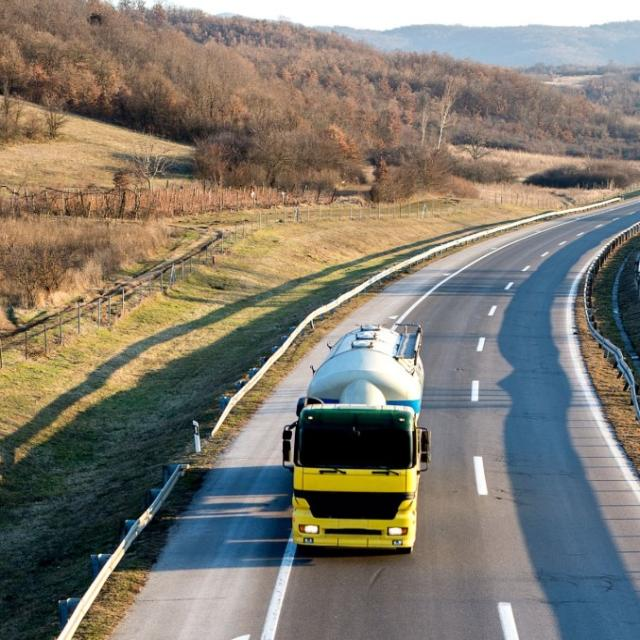truck: (281, 321, 431, 553)
